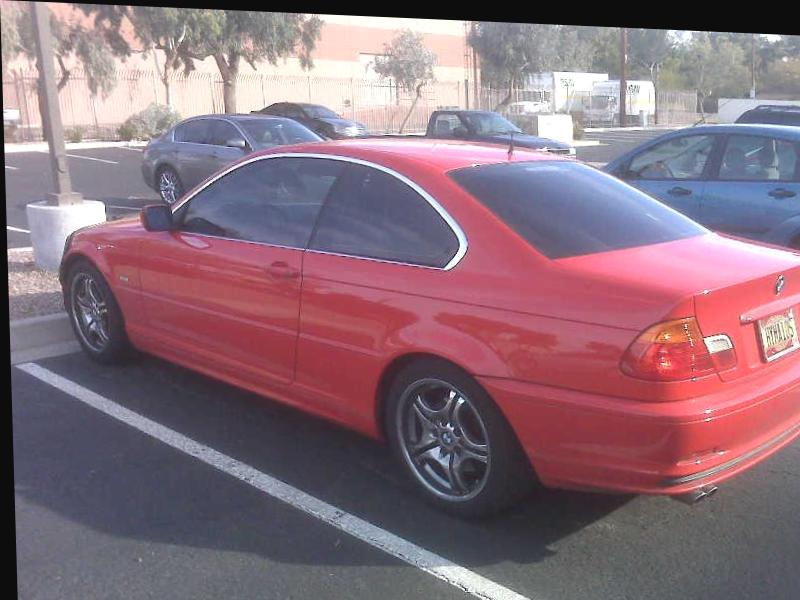License_Plate: (751, 305, 800, 368)
